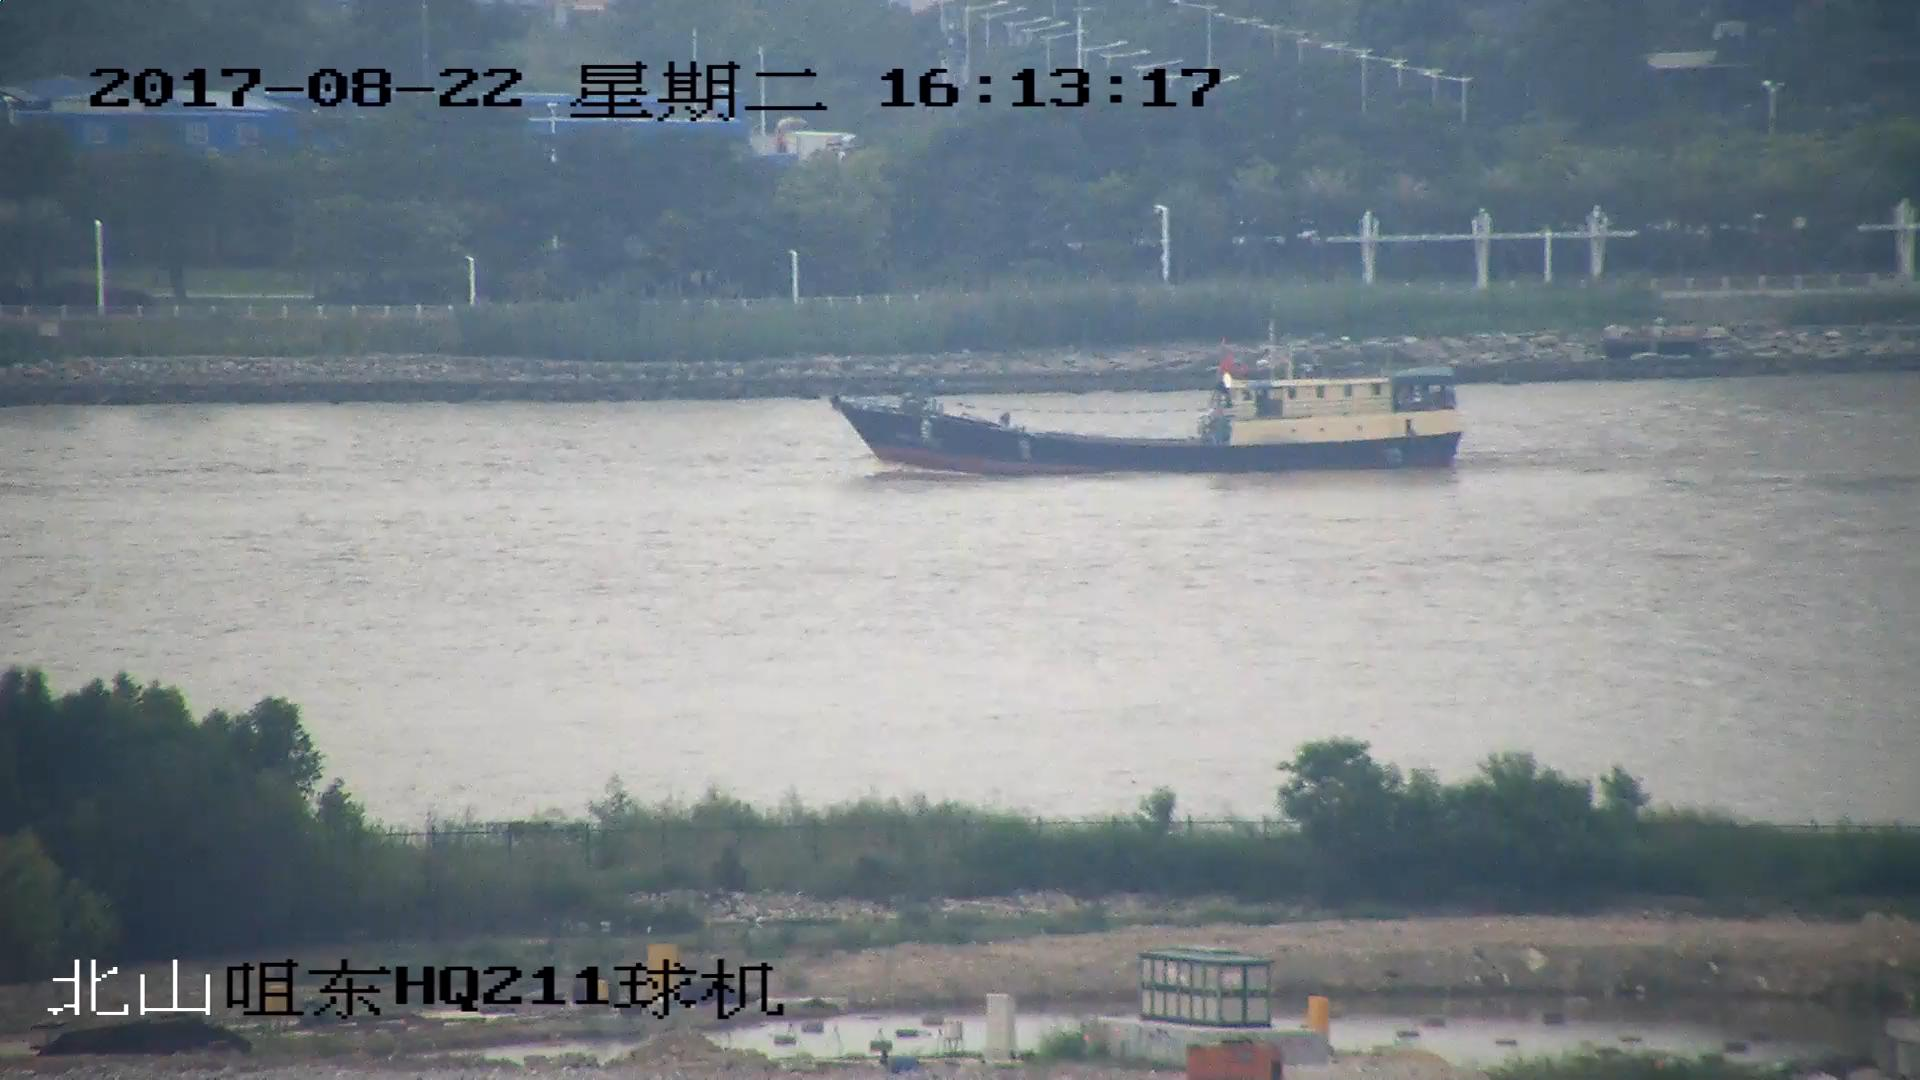fishing boat: (837, 336, 1461, 472)
